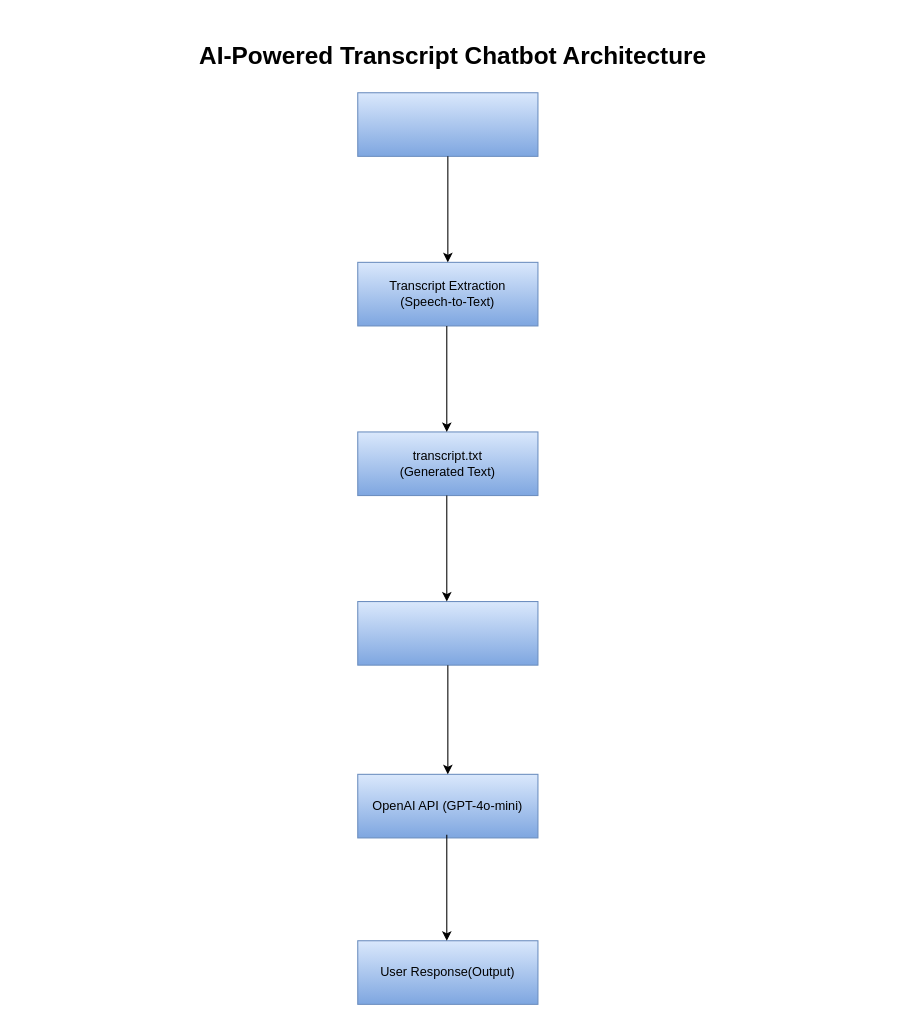
This 905x1023 diagram has some shape labels left out. Here are the shapes that lost their labels. From the top down, the centre of each, then its label:
At pixel 447 124: "Smartbridge.mp4 (Input Video)".
At pixel 447 632: "Python Chatbot (chatbot.py)".
